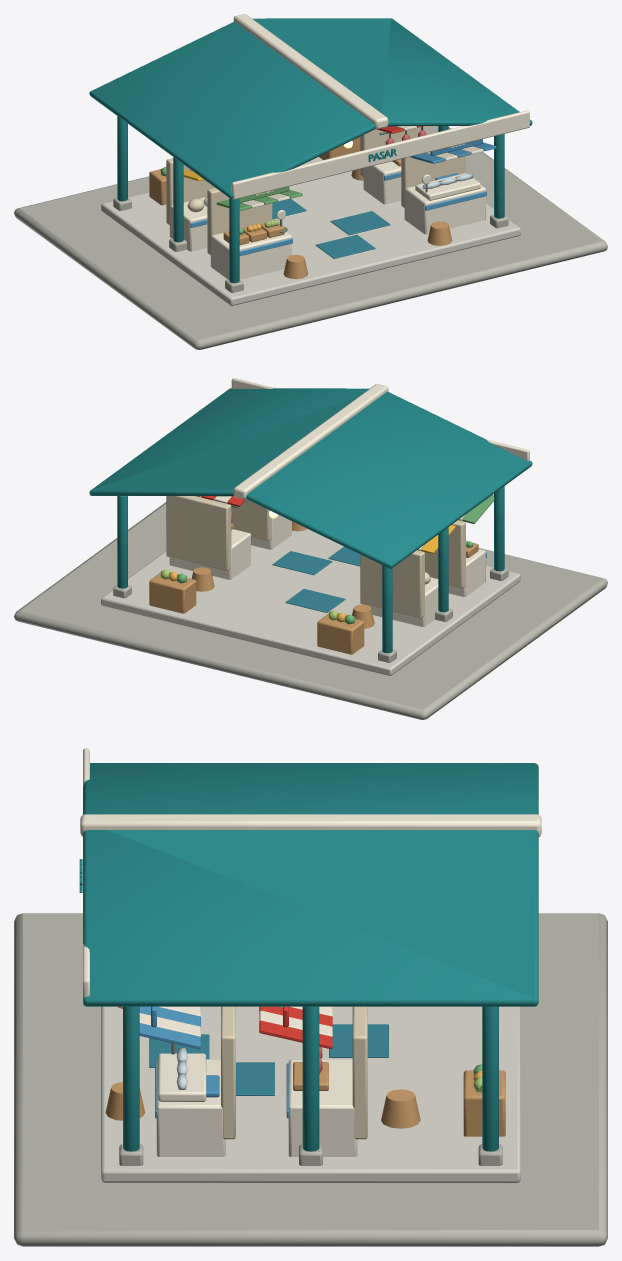
File: wetmarket-v2.glb
3 views of the same model, one above another, from view 1: azimuth 30°, elevation 25°; view 2: azimuth 150°, elevation 25°; view 3: azimuth 270°, elevation 25° (orthographic). The views are drawn at different scales.
Parts seen in each view (by area): view 1: WET MARKET HALL · Deep teal, Ground, WET MARKET HALL · Terrazzo, WET MARKET HALL · Chalk, WET MARKET HALL · Warm plaster, WET MARKET HALL · Sun timber, WET MARKET HALL · Graphic glass, WET MARKET HALL · Ceramic tile blue, WET MARKET HALL · Concrete, WET MARKET HALL · Utility blue, WET MARKET HALL · Plant mid, WET MARKET HALL · Awning cream; view 2: WET MARKET HALL · Deep teal, Ground, WET MARKET HALL · Terrazzo, WET MARKET HALL · Warm plaster, WET MARKET HALL · Chalk, WET MARKET HALL · Sun timber, WET MARKET HALL · Graphic glass, WET MARKET HALL · Concrete, WET MARKET HALL · Plant mid; view 3: WET MARKET HALL · Deep teal, Ground, WET MARKET HALL · Terrazzo, WET MARKET HALL · Chalk, WET MARKET HALL · Sun timber, WET MARKET HALL · Warm plaster, WET MARKET HALL · Graphic glass, WET MARKET HALL · Utility blue, WET MARKET HALL · Awning cream, WET MARKET HALL · Island red, WET MARKET HALL · Concrete.
Boxes of the visible parts, x1,y1,x2,y2 form: WET MARKET HALL · Deep teal: (89, 18, 532, 283); Ground: (14, 126, 607, 349); WET MARKET HALL · Terrazzo: (101, 157, 520, 305); WET MARKET HALL · Chalk: (169, 14, 529, 279); WET MARKET HALL · Warm plaster: (166, 126, 465, 255); WET MARKET HALL · Sun timber: (149, 137, 452, 279); WET MARKET HALL · Graphic glass: (272, 198, 390, 258); WET MARKET HALL · Ceramic tile blue: (190, 172, 486, 255); WET MARKET HALL · Concrete: (113, 197, 508, 292); WET MARKET HALL · Utility blue: (410, 139, 496, 180); WET MARKET HALL · Plant mid: (160, 166, 302, 234); WET MARKET HALL · Awning cream: (188, 126, 483, 207); WET MARKET HALL · Deep teal: (89, 388, 532, 653); Ground: (14, 502, 607, 719); WET MARKET HALL · Terrazzo: (101, 529, 520, 675); WET MARKET HALL · Warm plaster: (166, 496, 465, 618); WET MARKET HALL · Chalk: (169, 378, 529, 626); WET MARKET HALL · Sun timber: (149, 521, 478, 654); WET MARKET HALL · Graphic glass: (272, 546, 360, 612); WET MARKET HALL · Concrete: (113, 567, 508, 662); WET MARKET HALL · Plant mid: (176, 495, 494, 624); WET MARKET HALL · Deep teal: (79, 763, 538, 1151); Ground: (14, 913, 607, 1246); WET MARKET HALL · Terrazzo: (101, 1006, 520, 1182); WET MARKET HALL · Chalk: (80, 748, 541, 1156); WET MARKET HALL · Sun timber: (105, 1006, 505, 1136); WET MARKET HALL · Warm plaster: (221, 1006, 367, 1139); WET MARKET HALL · Graphic glass: (149, 1024, 388, 1095); WET MARKET HALL · Utility blue: (139, 1006, 219, 1097); WET MARKET HALL · Awning cream: (139, 1006, 332, 1036); WET MARKET HALL · Island red: (259, 1006, 332, 1049); WET MARKET HALL · Concrete: (119, 1144, 502, 1165).
Bounding box in the file's own units: 12.8 × 4.98 × 9.92.
2 materials, 2 textured.
